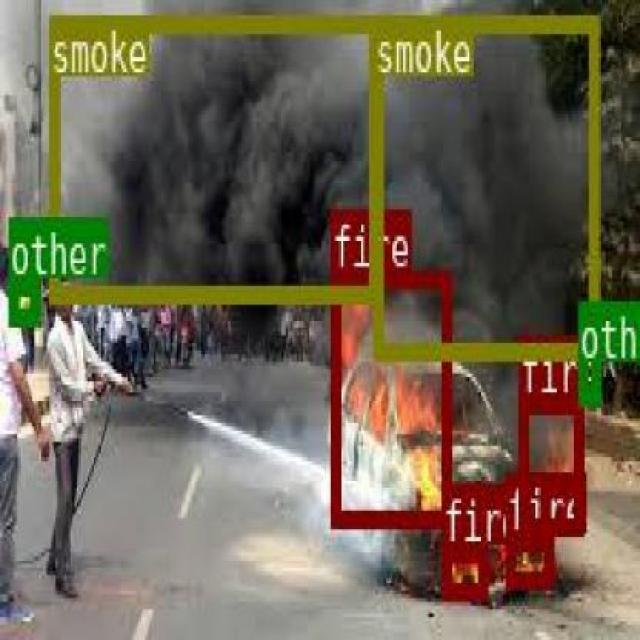Fire: (330, 268, 450, 522), (518, 394, 580, 532), (503, 529, 551, 585), (440, 542, 486, 596)
Smoke: (49, 13, 377, 298), (372, 11, 596, 356)
